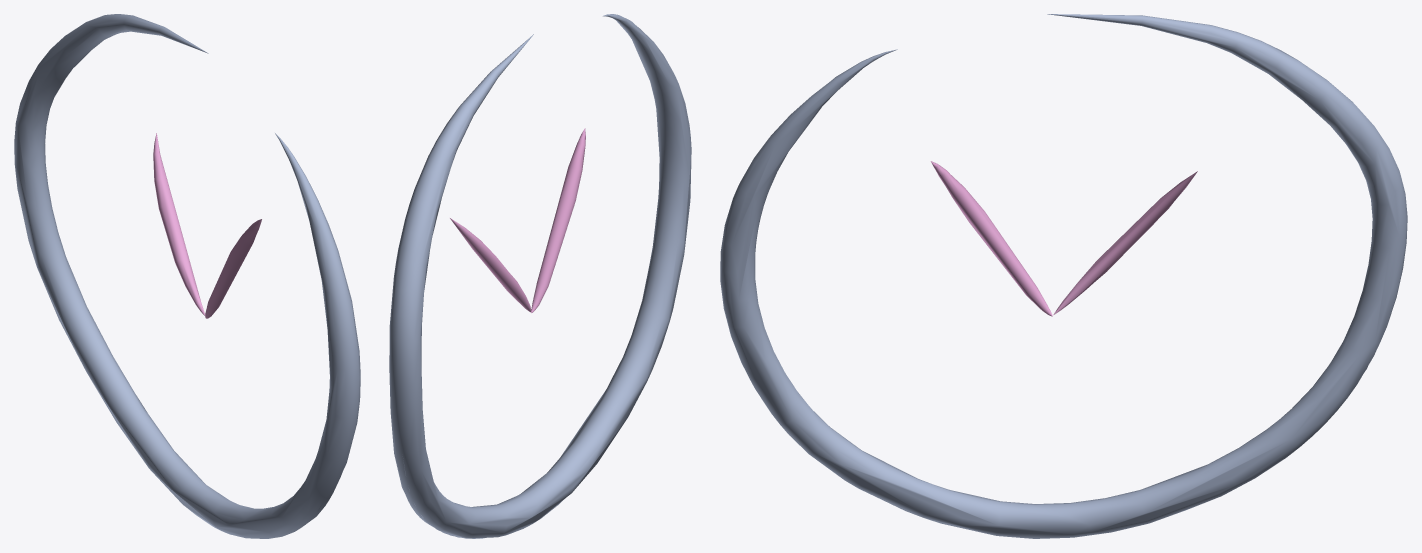
Rendered from icon.glb.
The picture shows the model from 3 angles, left to right: view 1: azimuth 30°, elevation 25°; view 2: azimuth 150°, elevation 25°; view 3: azimuth 270°, elevation 25°; orthographic projection. The views are drawn at different scales.
Parts seen in each view (by area): view 1: clock face, clock arms; view 2: clock face, clock arms; view 3: clock face, clock arms.
Boxes of the visible parts, x1,y1,x2,y2 form: clock face: (14,14,360,538); clock arms: (153,133,261,318); clock face: (389,14,691,538); clock arms: (450,128,585,312); clock face: (720,14,1407,538); clock arms: (931,161,1197,316).
Size of the model in its own units: 0.0528 by 0.4208 by 0.4992.
